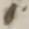cockroach: (3, 2, 15, 24)
